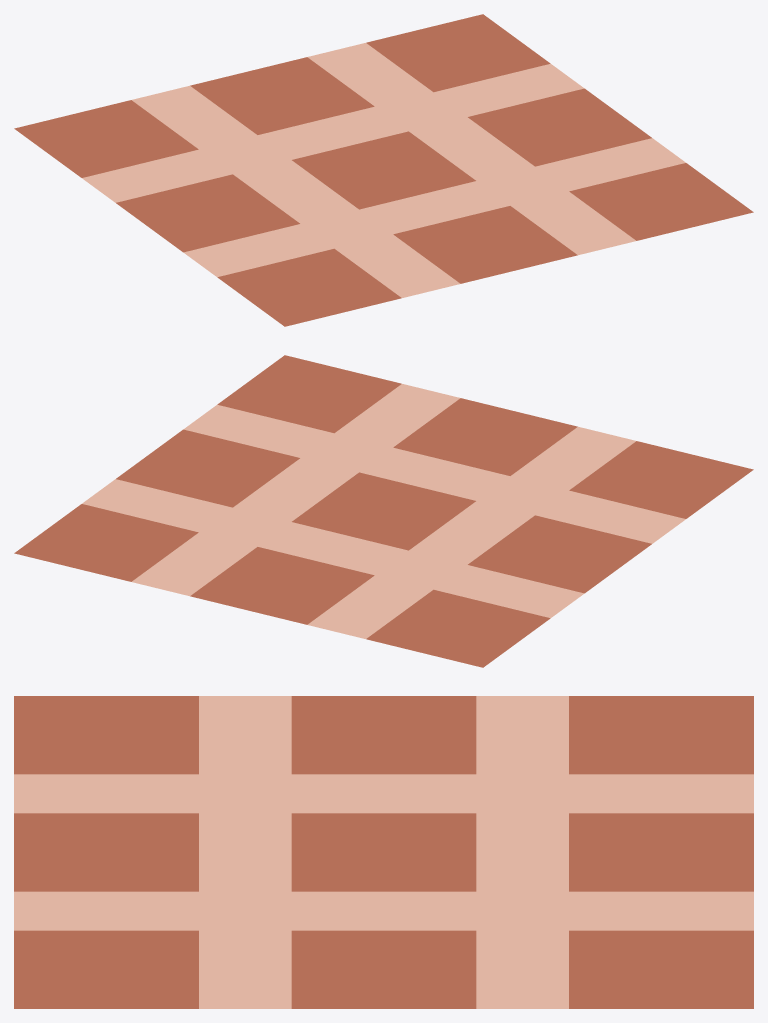
The model's file is terrain_roadCross.glb.
The picture shows the model from 3 angles, top to bottom: view 1: azimuth 30°, elevation 25°; view 2: azimuth 150°, elevation 25°; view 3: azimuth 270°, elevation 25°; orthographic projection. The views are drawn at different scales.
Visible parts, largest first — view 1: terrain_roadCross; view 2: terrain_roadCross; view 3: terrain_roadCross.
Part boxes in pixels (<box>): terrain_roadCross: <box>14,14,753,326</box>; terrain_roadCross: <box>14,355,753,667</box>; terrain_roadCross: <box>14,696,753,1008</box>.
Size of the model in its own units: 1.3 by 0 by 1.3.
